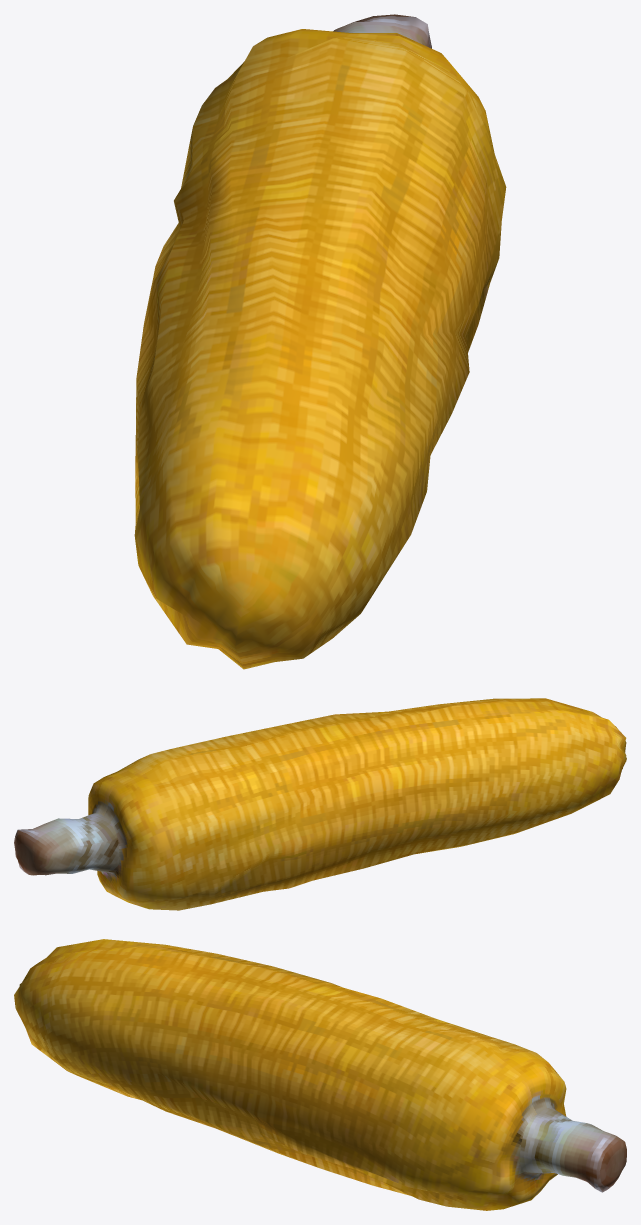
Rendered from ref_corn.glb.
3 views of the same model, one above another, from view 1: azimuth 30°, elevation 25°; view 2: azimuth 150°, elevation 25°; view 3: azimuth 270°, elevation 25° (orthographic). The views are drawn at different scales.
Visible parts, largest first — view 1: ref_corn; view 2: ref_corn; view 3: ref_corn.
Boxes of the visible parts, bbox=[...] form: ref_corn: bbox=[134, 14, 506, 669]; ref_corn: bbox=[14, 698, 626, 910]; ref_corn: bbox=[14, 939, 626, 1210].
Bounding box in the file's own units: 0.7785 × 0.2959 × 1.
Materials: 1 (1 with a texture image).
